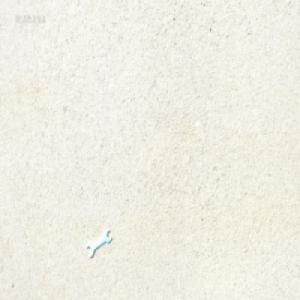Wrench: (88, 230, 112, 258)
